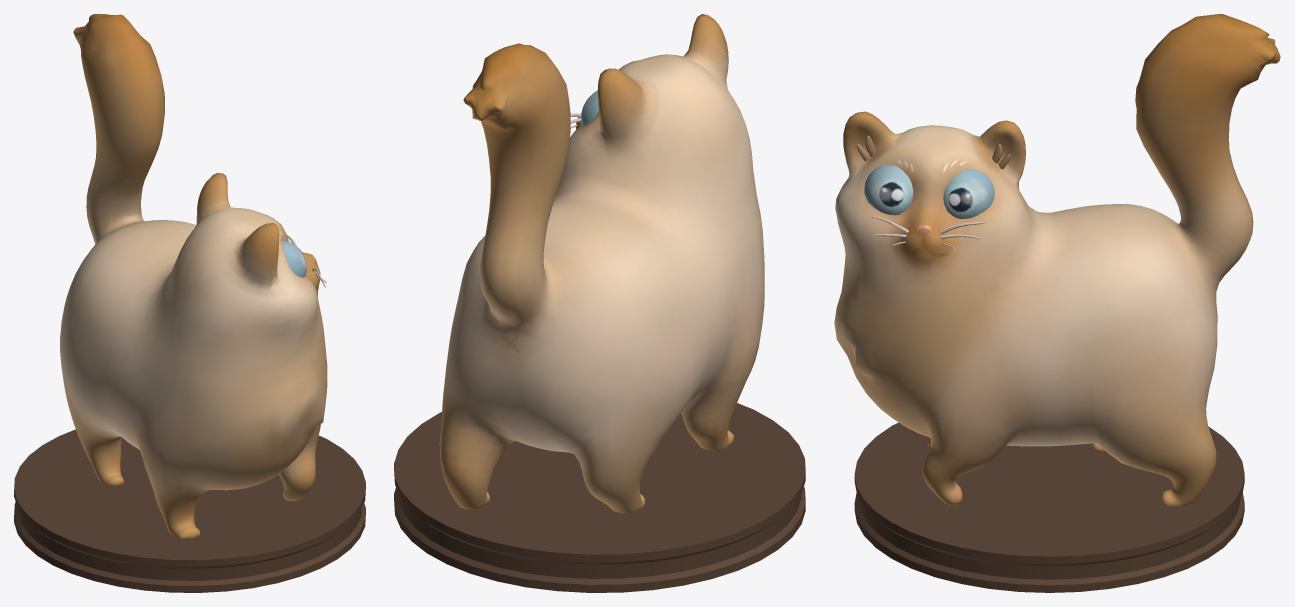
The model's file is cat-transformed.glb.
The picture shows the model from 3 angles, left to right: view 1: azimuth 30°, elevation 25°; view 2: azimuth 150°, elevation 25°; view 3: azimuth 270°, elevation 25°; orthographic projection. The views are drawn at different scales.
Visible parts, largest first — view 1: Object_2; view 2: Object_2; view 3: Object_2.
Part boxes in pixels (x1,y1,x2,y2): Object_2: (14, 14, 365, 592); Object_2: (394, 14, 805, 592); Object_2: (834, 14, 1280, 592).
Size of the model in its own units: 2.23 by 3.11 by 2.55.
Materials: 1 (1 with a texture image).
